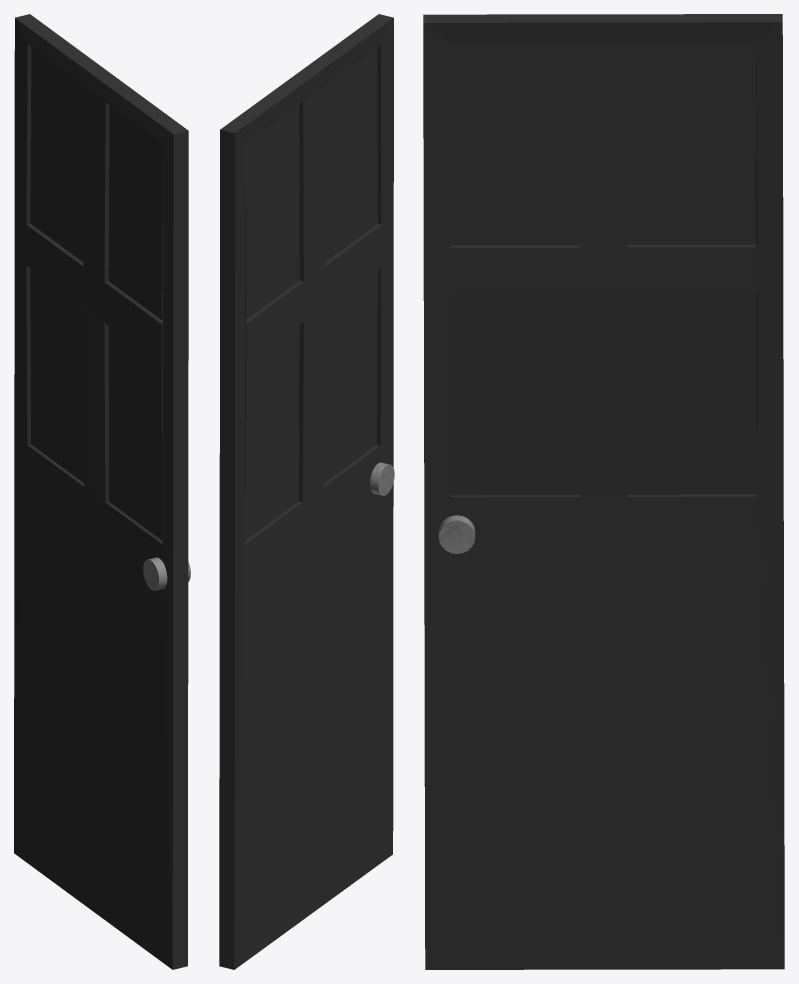
Rendered from Door.fbx.
The picture shows the model from 3 angles, left to right: view 1: azimuth 30°, elevation 25°; view 2: azimuth 150°, elevation 25°; view 3: azimuth 270°, elevation 25°; orthographic projection. The views are drawn at different scales.
Visible parts, largest first — view 1: Door1; view 2: Door1; view 3: Door1.
Part boxes in pixels (<box>): Door1: <box>14,14,190,969</box>; Door1: <box>219,14,394,969</box>; Door1: <box>423,14,784,969</box>.
Bounding box in the file's own units: 2.26 × 57.1 × 19.74.
